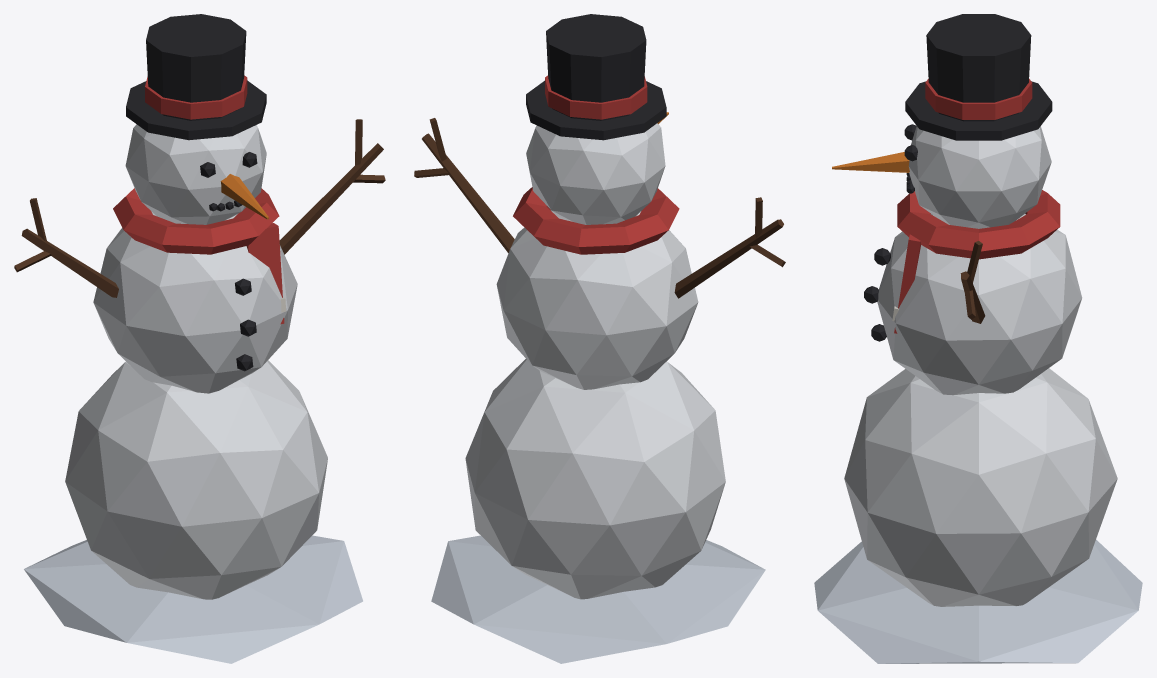
The model's file is snowman.glb.
3 views of the same model, side by side, from view 1: azimuth 30°, elevation 25°; view 2: azimuth 150°, elevation 25°; view 3: azimuth 270°, elevation 25° (orthographic). The views are drawn at different scales.
Parts seen in each view (by area): view 1: snowman; view 2: snowman; view 3: snowman.
Part boxes in pixels (x1,y1,x2,y2): snowman: [14, 14, 385, 663]; snowman: [414, 14, 785, 663]; snowman: [814, 14, 1142, 663].
Size of the model in its own units: 1.25 by 1.8 by 0.9396.
